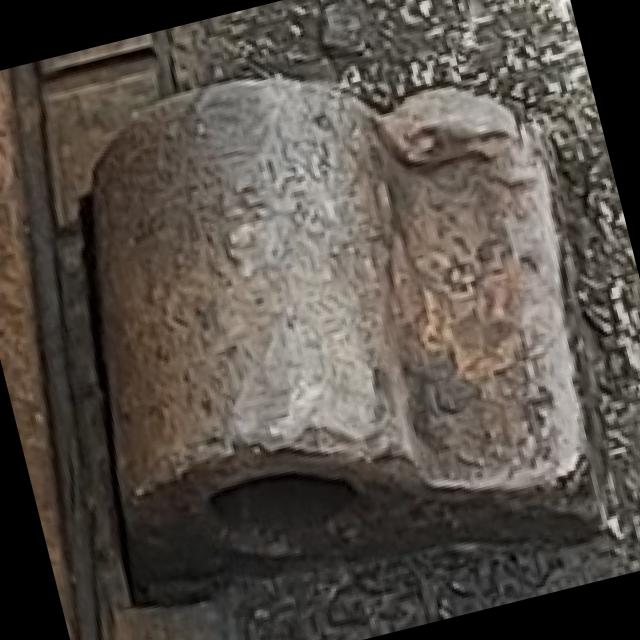track_bolt_missing: (16, 34, 476, 592)
